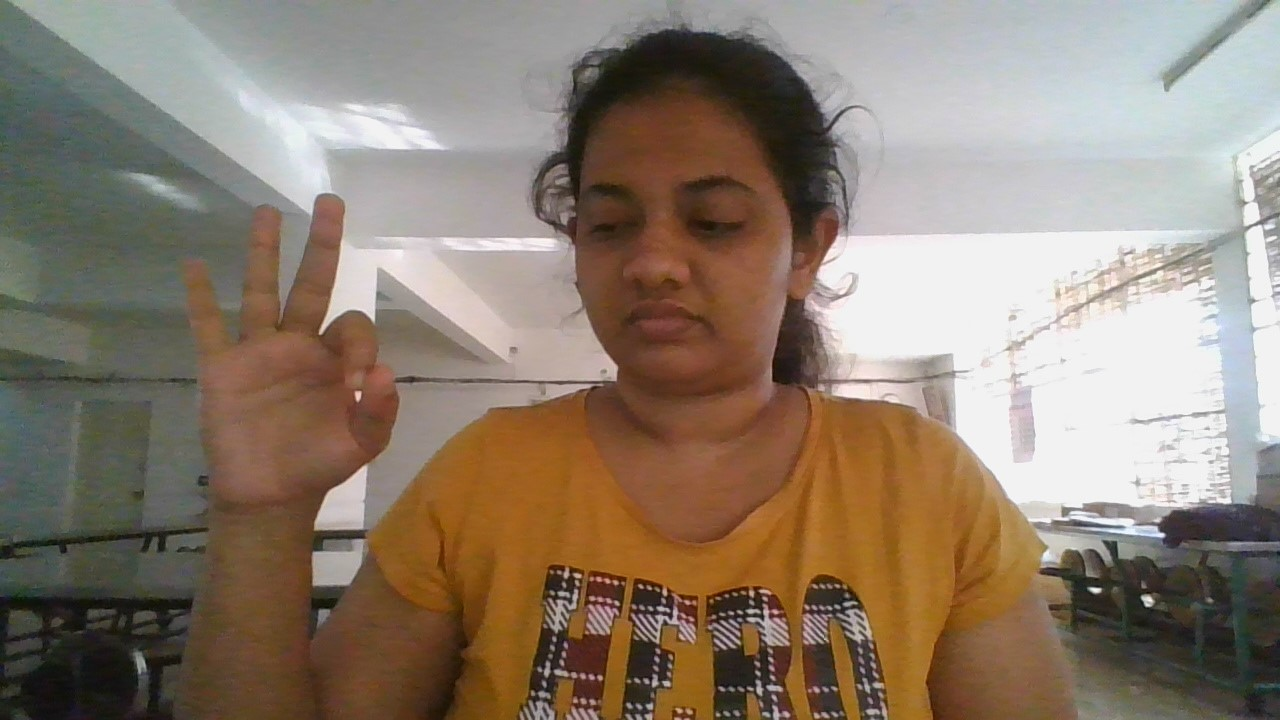f: (161, 186, 404, 528)
